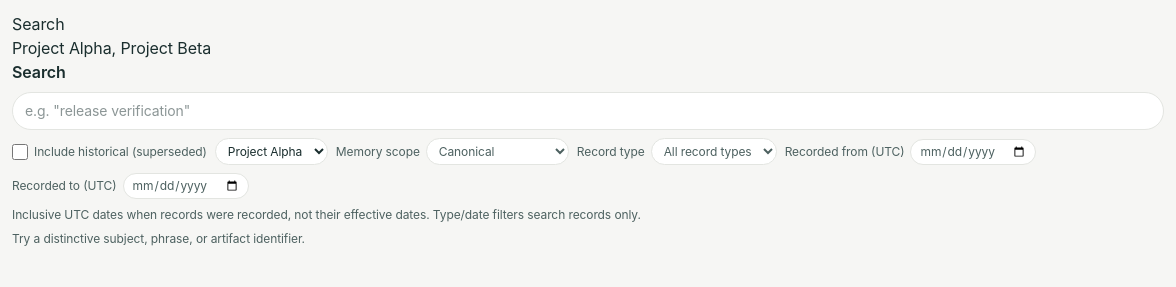
Test: search drafts and router navigation › discards a pending scoped draft when the sidebar Search link clears the filters
The width and height of the screenshot is (1176, 287).
Step 1. Type "abandoned draft" into the search field named "Search memory" → [588, 111], box [12,92,1164,130]
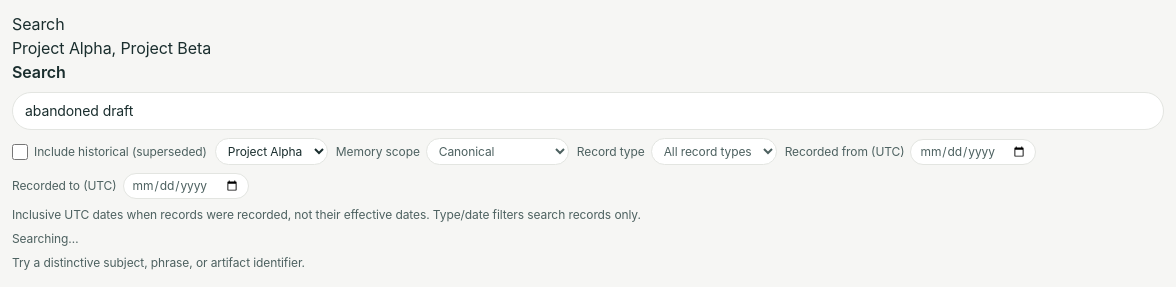
Step 2. Click the link "Search" → [38, 24], box [12,14,64,34]
Wait 250 ms
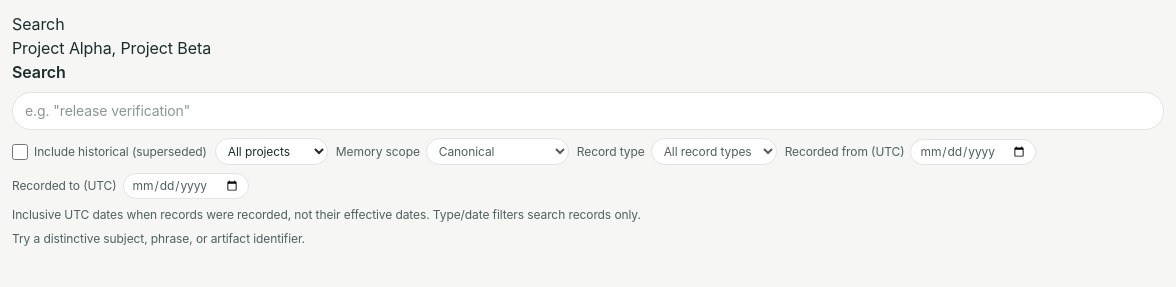
Check: the search field named "Search memory" is empty, box [12,92,1164,130]
Check: the dropdown named "Filter by project" shows "All projects", box [215,138,328,165]
